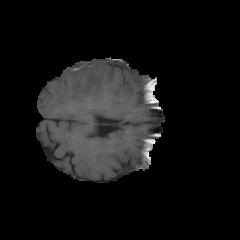glioma: (44, 63, 112, 113)
